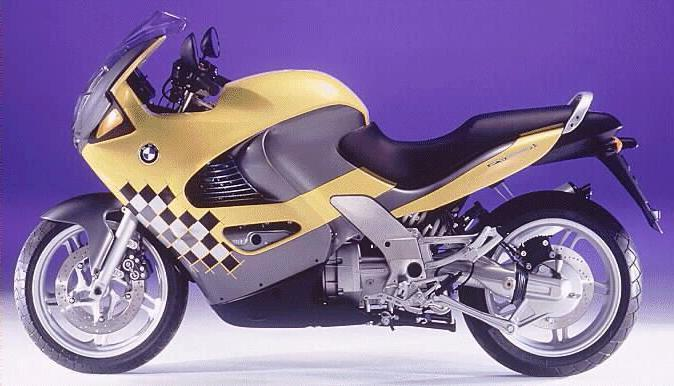motorcycle: (2, 2, 672, 386)
